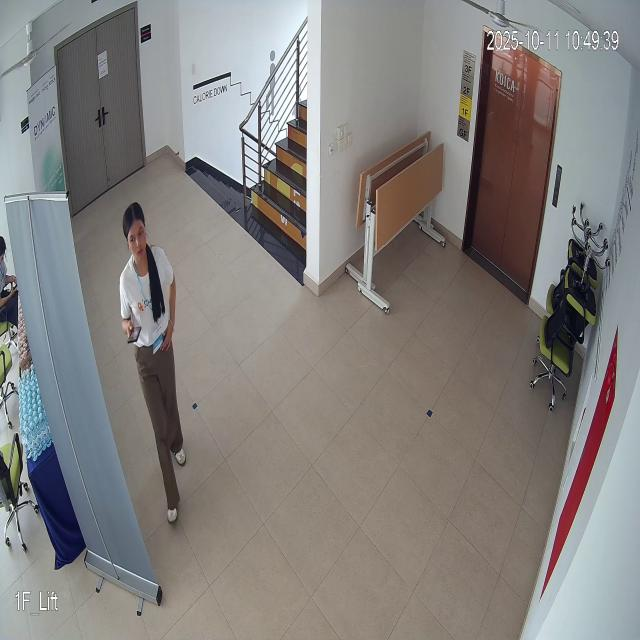face: (120, 203, 154, 266)
